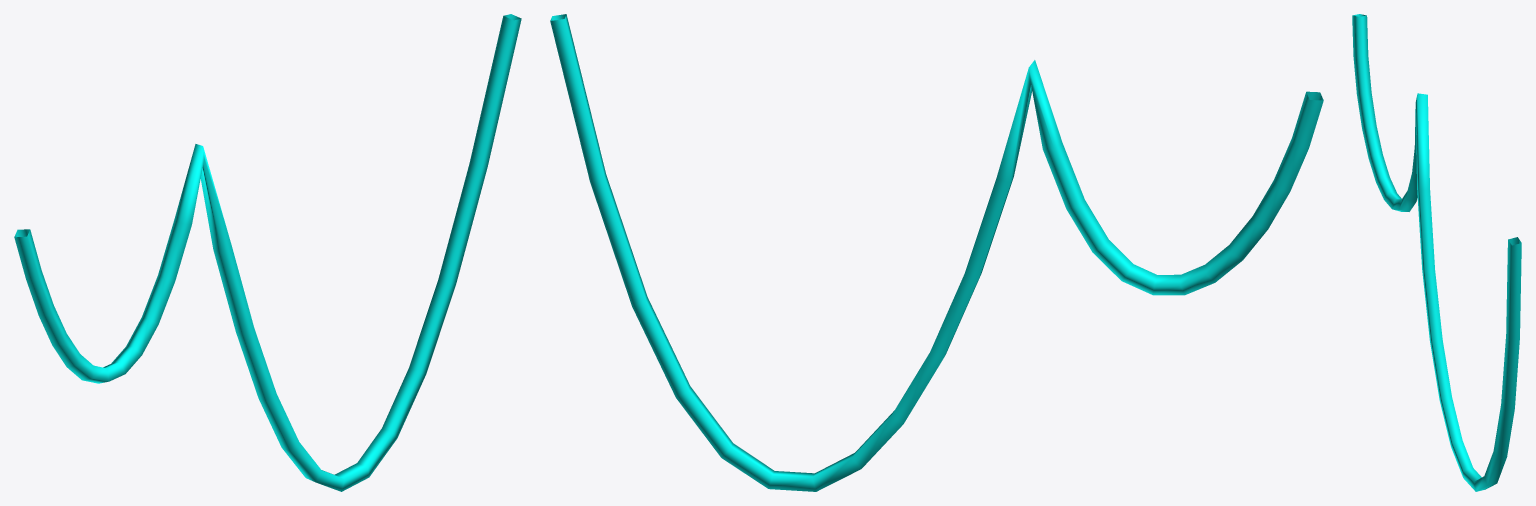
Rendered from BuildingS5.fbx.
3 views of the same model, side by side, from view 1: azimuth 30°, elevation 25°; view 2: azimuth 150°, elevation 25°; view 3: azimuth 270°, elevation 25° (orthographic). The views are drawn at different scales.
Parts seen in each view (by area): view 1: S5; view 2: S5; view 3: S5.
Boxes of the visible parts, left/top/right/bottom form: S5: left=14, top=14, right=521, bottom=491; S5: left=550, top=14, right=1323, bottom=491; S5: left=1352, top=14, right=1521, bottom=491.
Bounding box in the file's own units: 406 × 262 × 125.
